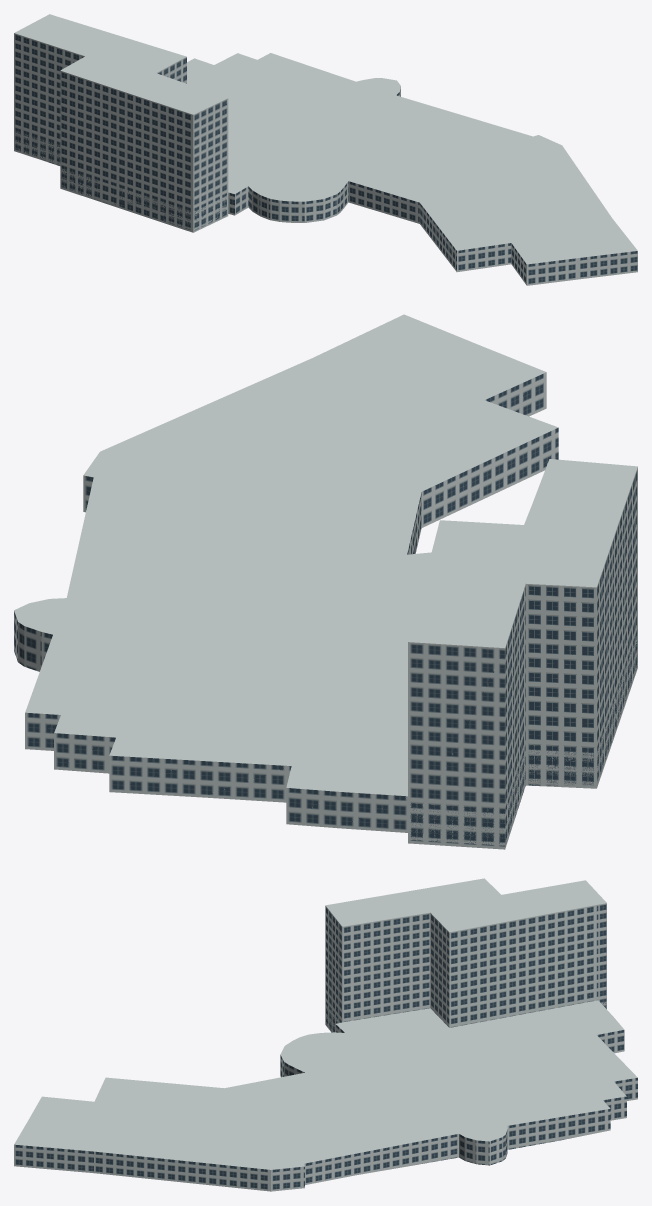
Rendered from city_8_-2.glb.
The picture shows the model from 3 angles, top to bottom: view 1: azimuth 30°, elevation 25°; view 2: azimuth 150°, elevation 25°; view 3: azimuth 270°, elevation 25°; orthographic projection. The views are drawn at different scales.
Bounding box in the file's own units: 157 × 44.79 × 212.
Materials: 1 (1 with a texture image).
